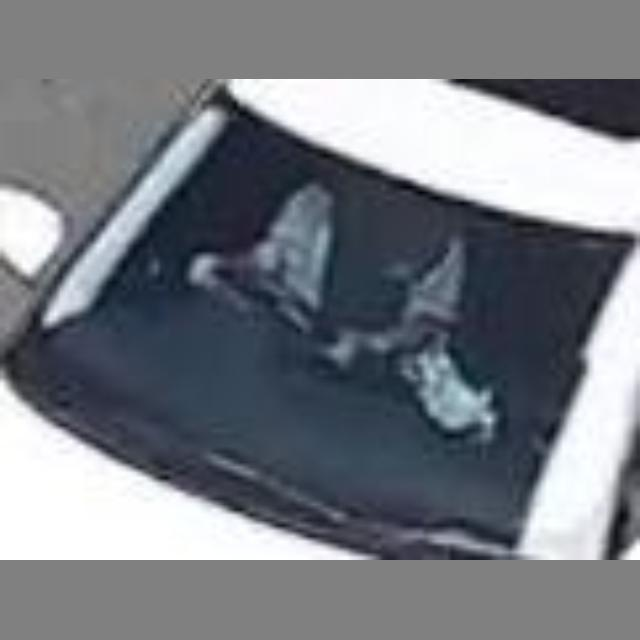tidak-pakai: (222, 174, 450, 380)
